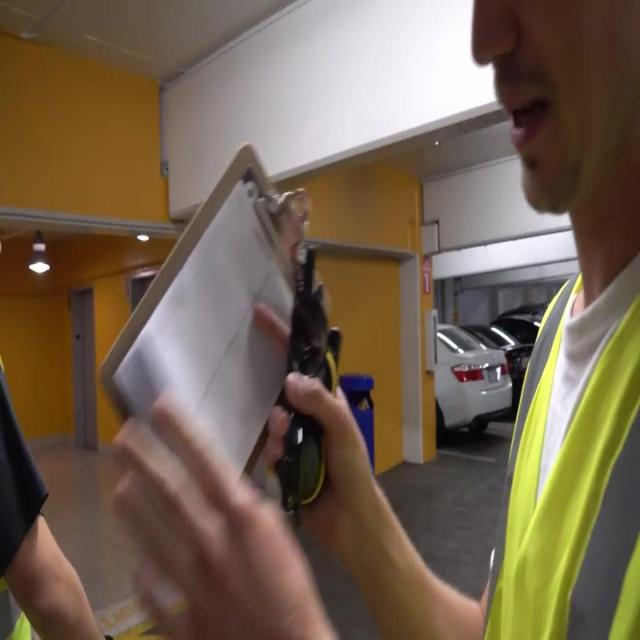Reflective-Jacket: (487, 241, 637, 638)
